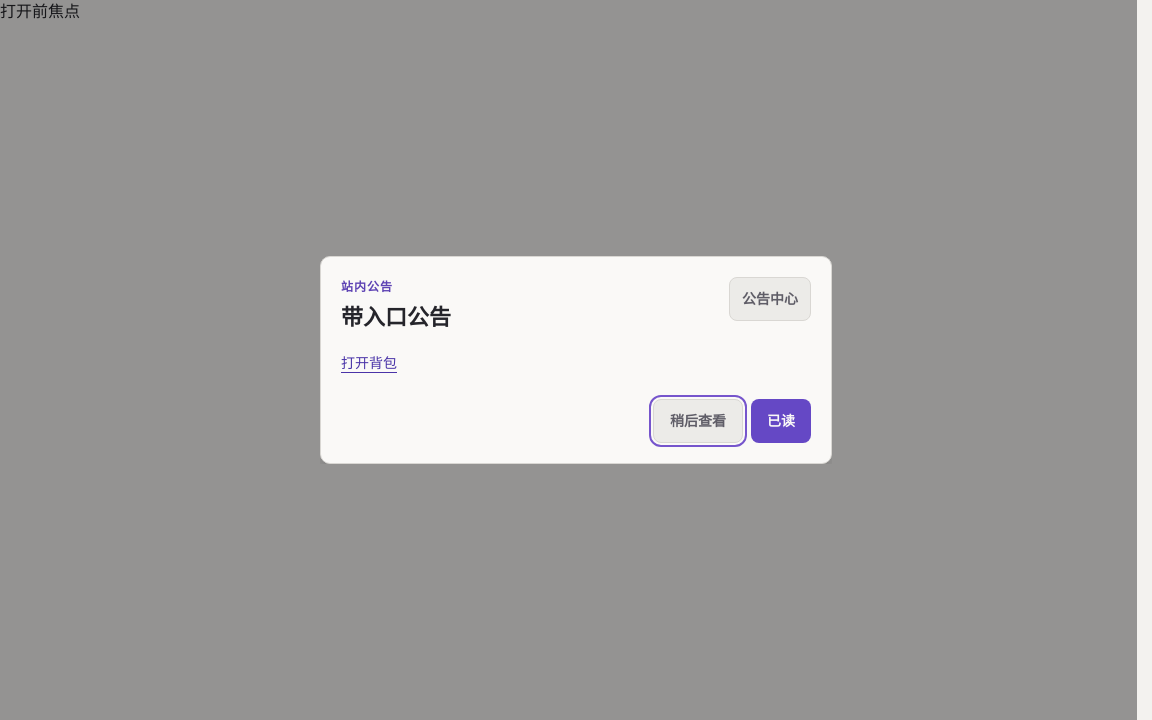
Scenario: AnnouncementPopup accessibility › dismisses the popup when an announcement link navigates inside the app
Click the link "打开背包" at [369, 363], box [341, 355, 397, 371]
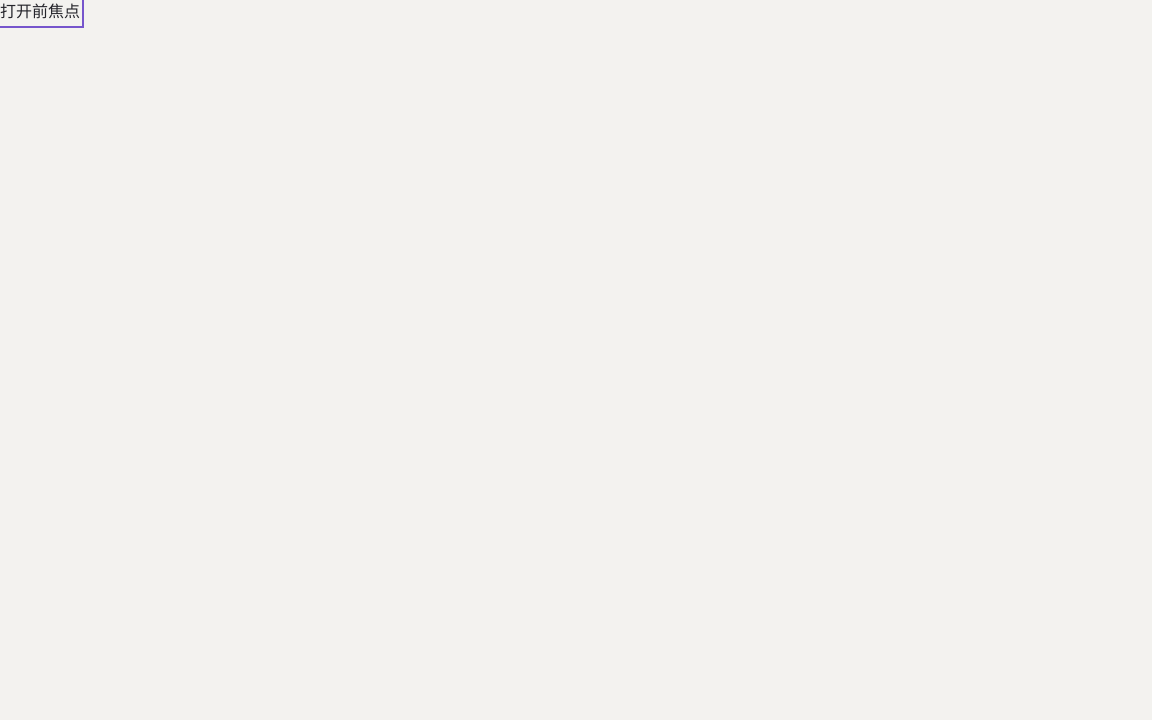
Result: the dialog is gone
